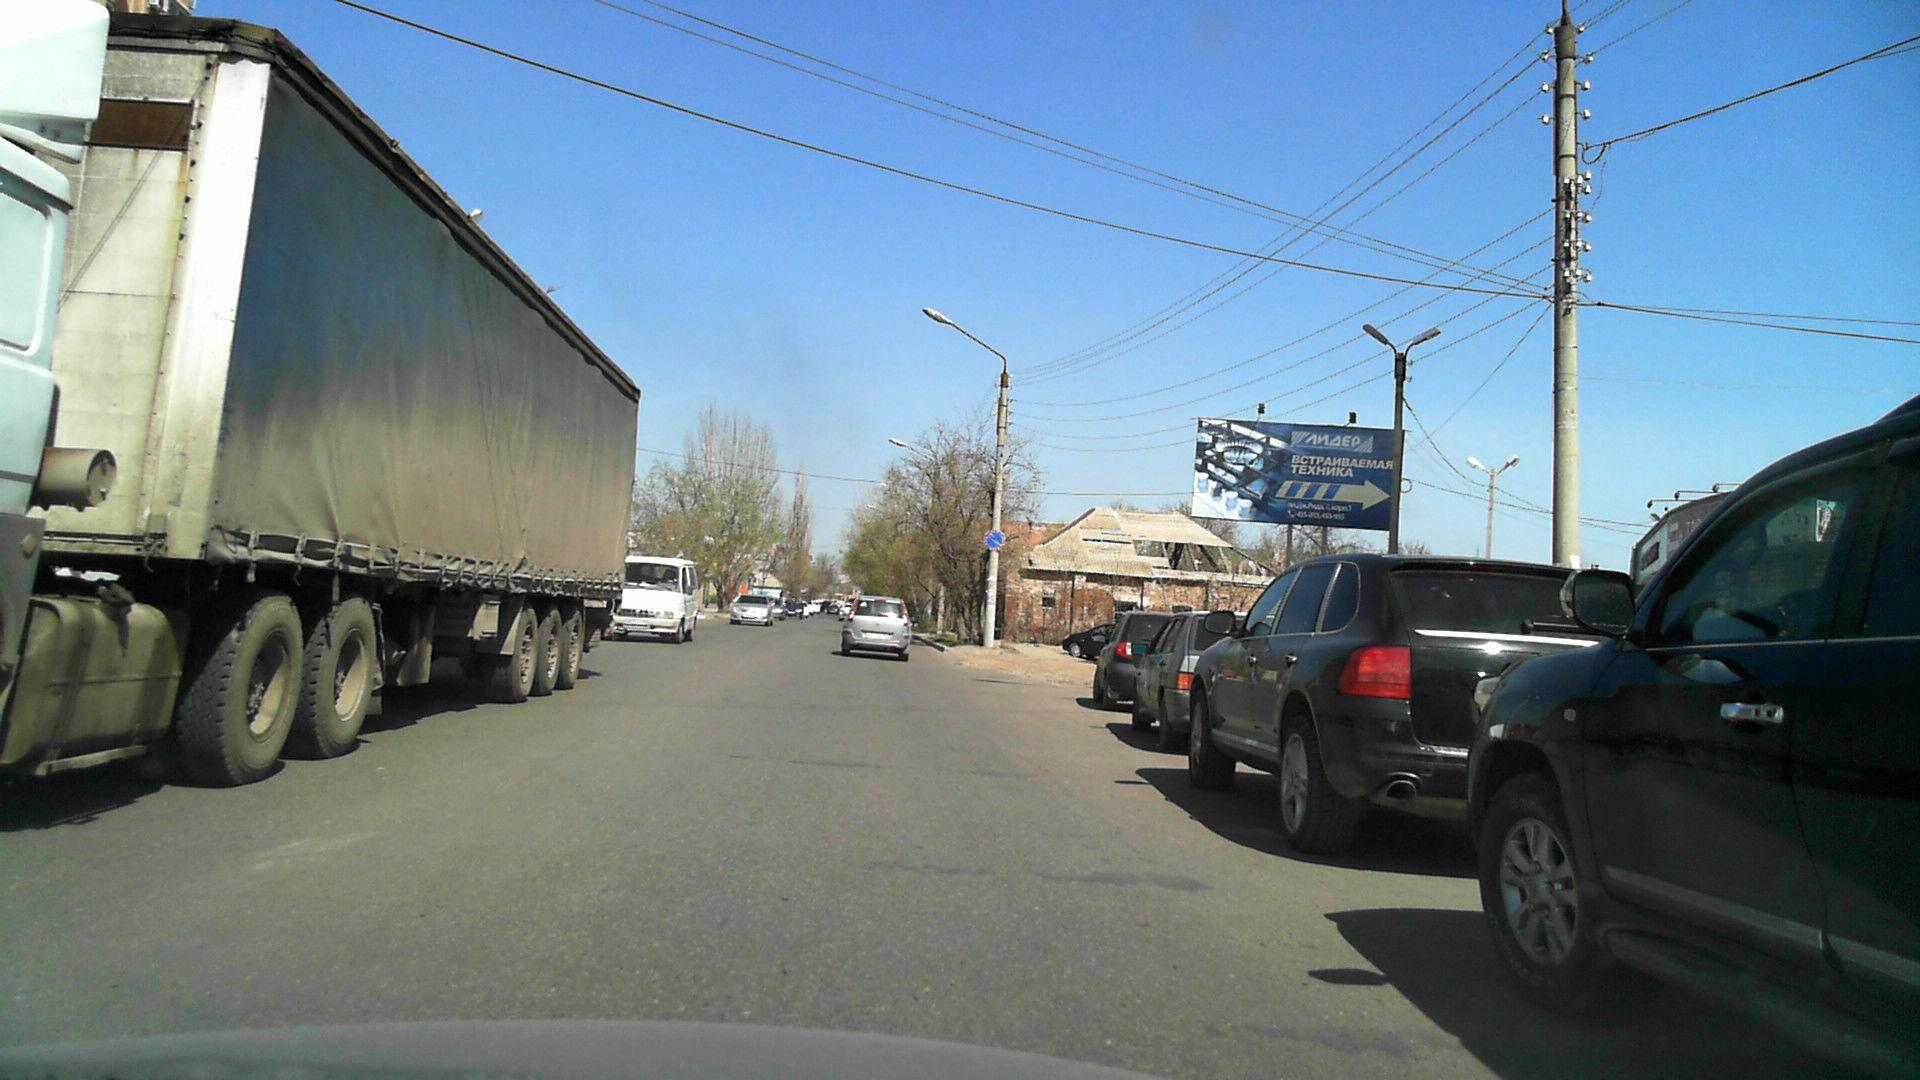3_28: (982, 526, 1006, 551)
